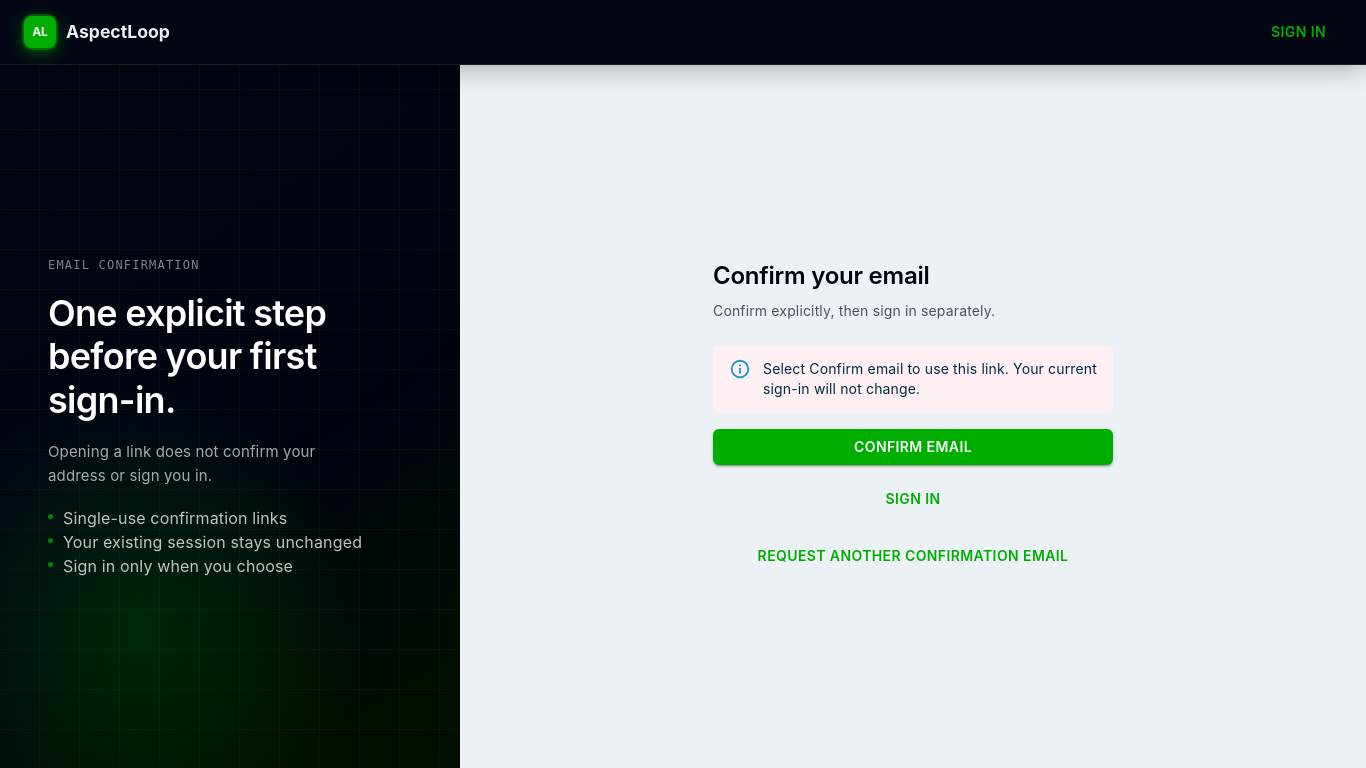
ConfirmEmailPage › confirms only after a click and removes the terminal action
Click the button "Confirm email": (913, 447) left=713, top=429, right=1113, bottom=466
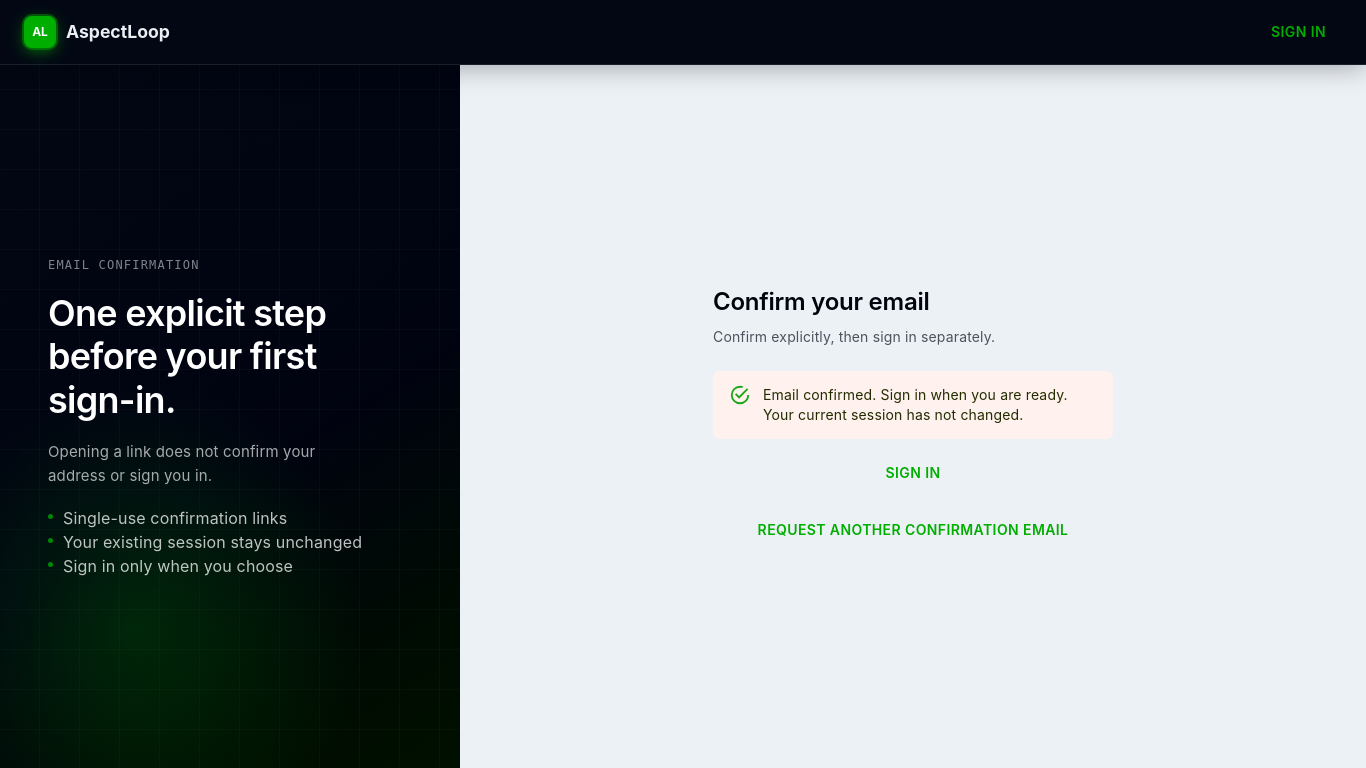
Now the text "Email confirmed. Sign in" is shown, box left=763, top=386, right=1068, bottom=423
Now the text "Confirm email" is gone
